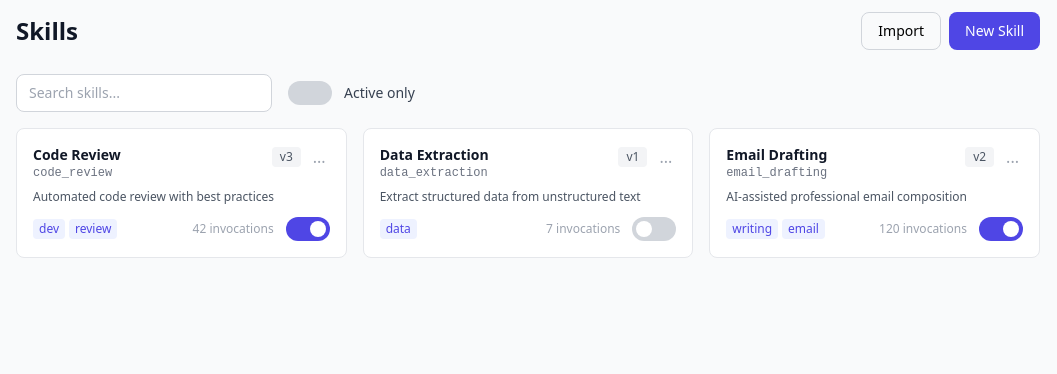
Test case: SK5: Edit skill › shows Edit option in card menu
Click the "..." menu on the first card
Click the button "..." in the row of "code_review".
click(319, 157)  # box left=309, top=145, right=330, bottom=169
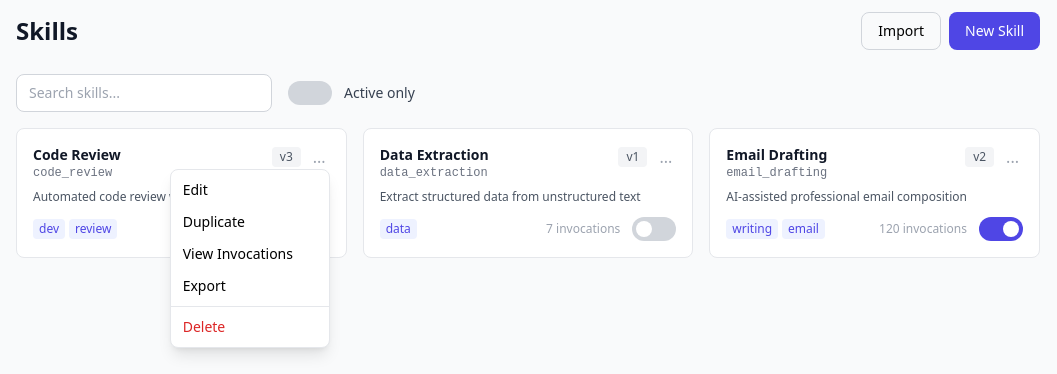
Expected: the button "Edit" is shown, left=171, top=174, right=329, bottom=206
